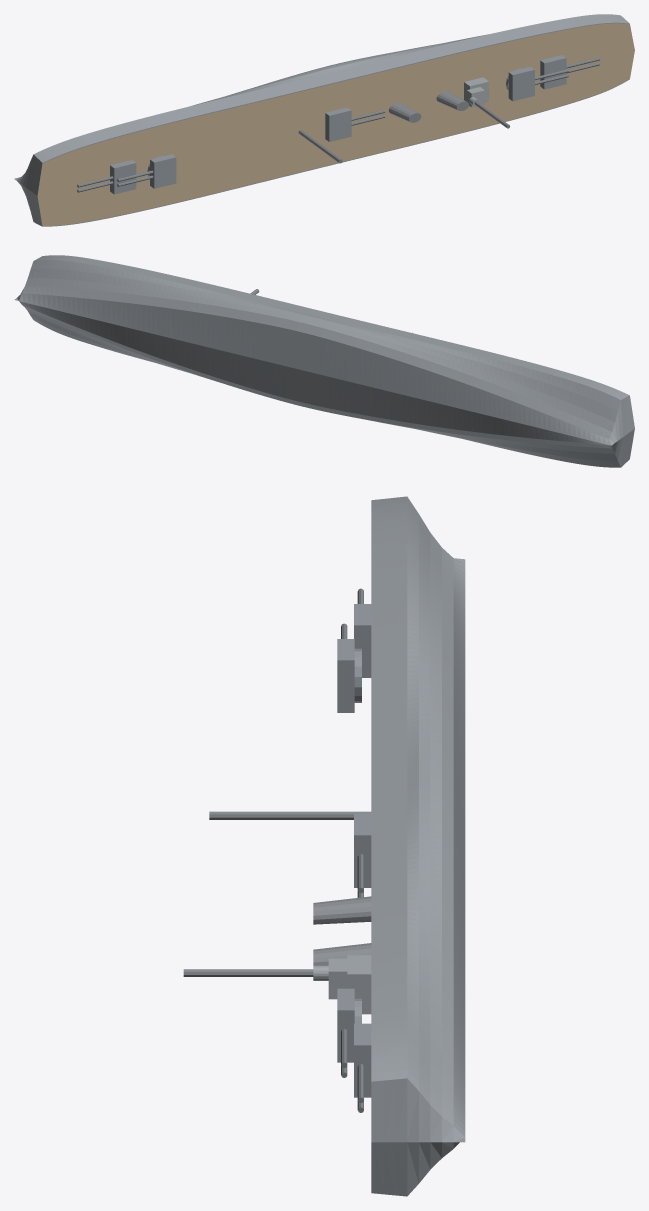
3 renders of one model, top to bottom at view 1: azimuth 30°, elevation 25°; view 2: azimuth 150°, elevation 25°; view 3: azimuth 270°, elevation 25°, orthographic. The views are drawn at different scales.
Parts seen in each view (by area): view 1: A123; view 2: A123; view 3: A123.
Boxes of the visible parts, x1,y1,x2,y2 form: A123: [14, 14, 634, 226]; A123: [14, 255, 634, 467]; A123: [183, 496, 465, 1196].
Size of the model in its own units: 227 by 32.37 by 46.31.
